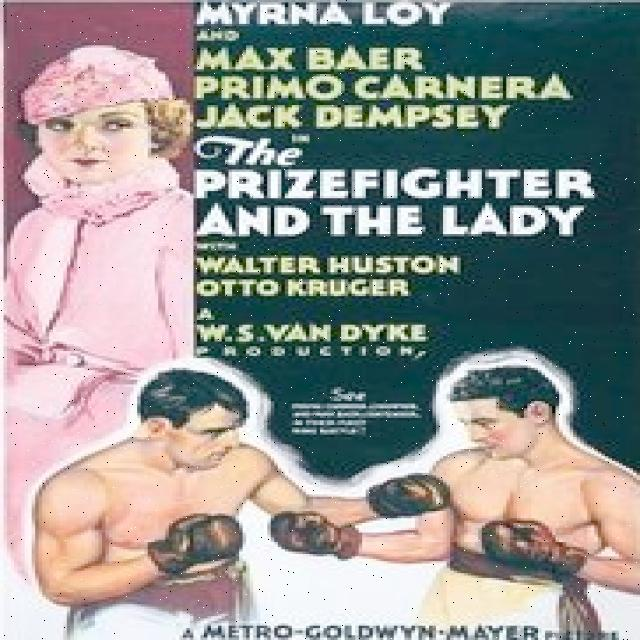movie-judul: (195, 133, 594, 240)
picture: (0, 362, 640, 630), (4, 40, 196, 366)
